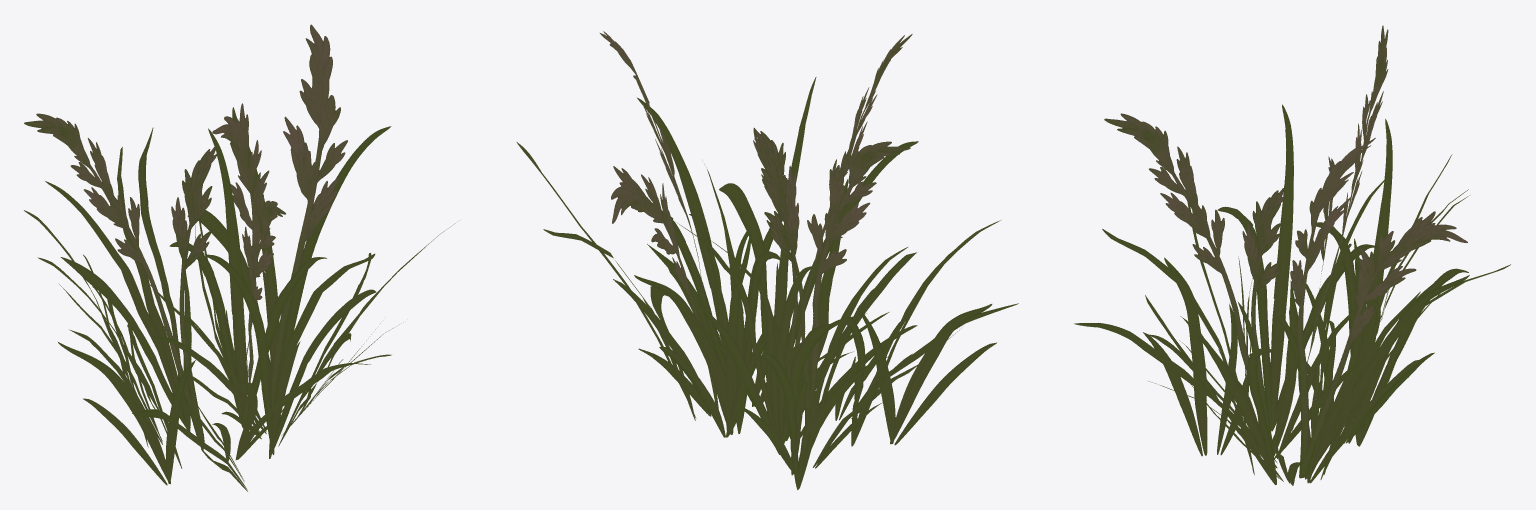
File: MSH_fwOF_Grass_L_3.fbx
3 renders of one model, left to right at view 1: azimuth 30°, elevation 25°; view 2: azimuth 150°, elevation 25°; view 3: azimuth 270°, elevation 25°, orthographic. The views are drawn at different scales.
Visible parts, largest first — view 1: MSH_fwOF_Grass_L_3; view 2: MSH_fwOF_Grass_L_3; view 3: MSH_fwOF_Grass_L_3.
Boxes of the visible parts, bbox=[...] form: MSH_fwOF_Grass_L_3: bbox=[24, 24, 455, 491]; MSH_fwOF_Grass_L_3: bbox=[516, 31, 1018, 490]; MSH_fwOF_Grass_L_3: bbox=[1074, 25, 1510, 485].
Bounding box in the file's own units: 0.6395 × 0.5653 × 0.5811.
